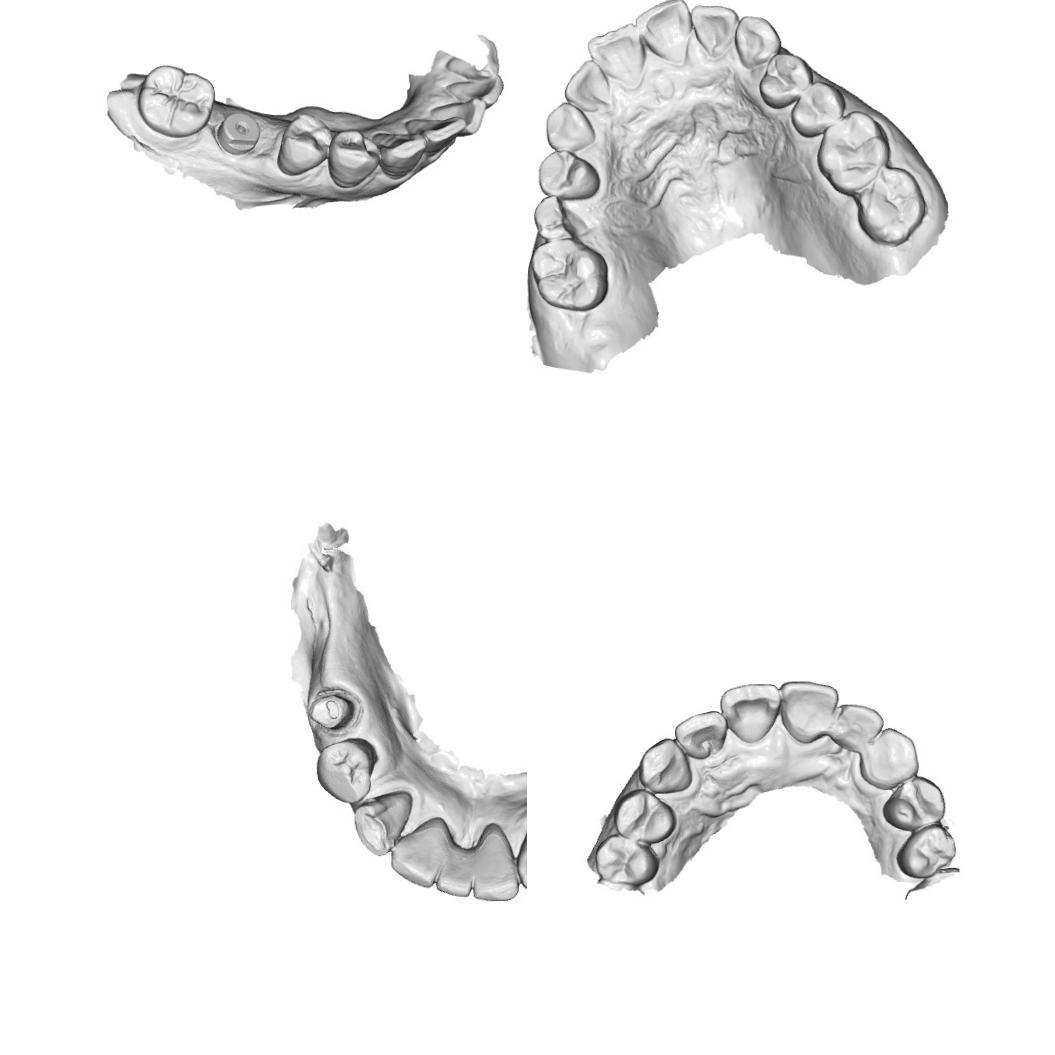canine: (350, 789, 414, 858), (860, 725, 920, 788), (637, 737, 694, 795), (732, 12, 783, 70), (544, 100, 598, 153), (374, 128, 429, 180)
crown: (309, 689, 356, 737)
implant: (214, 110, 262, 156)
incisor: (388, 821, 454, 892), (585, 20, 647, 92), (778, 678, 841, 746), (632, 0, 694, 69), (720, 682, 781, 746), (470, 833, 520, 903), (688, 1, 741, 59), (673, 708, 730, 761), (428, 842, 478, 901), (562, 56, 611, 115), (833, 700, 886, 752), (407, 114, 467, 156), (434, 96, 488, 137), (452, 72, 512, 108)
molar: (814, 108, 892, 196), (527, 237, 611, 313), (854, 164, 928, 248), (136, 62, 216, 136)
premolar: (315, 734, 379, 804), (611, 787, 678, 846), (880, 774, 948, 832), (592, 830, 660, 887), (788, 77, 848, 140), (894, 823, 959, 880), (536, 148, 602, 203), (276, 112, 331, 176), (756, 50, 814, 110), (327, 128, 380, 190), (530, 193, 590, 242)
